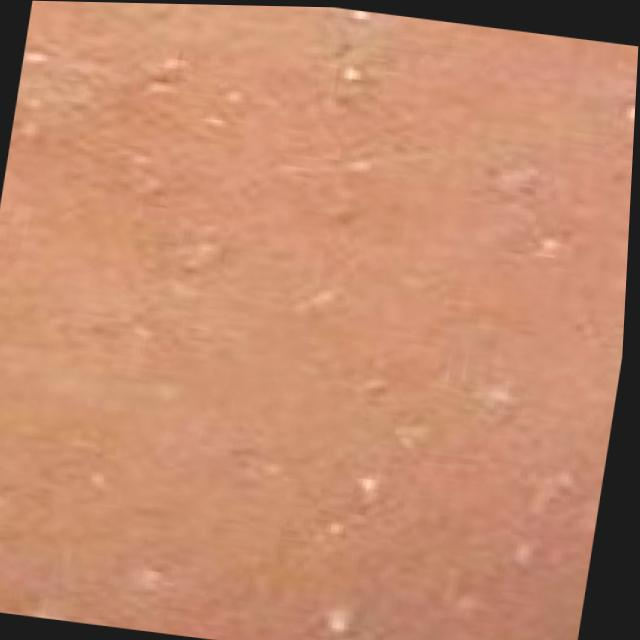whitehead: (0, 1, 637, 640)
